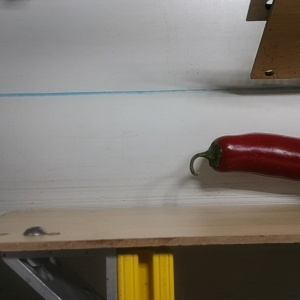Cut Point: (200, 136, 235, 172)
